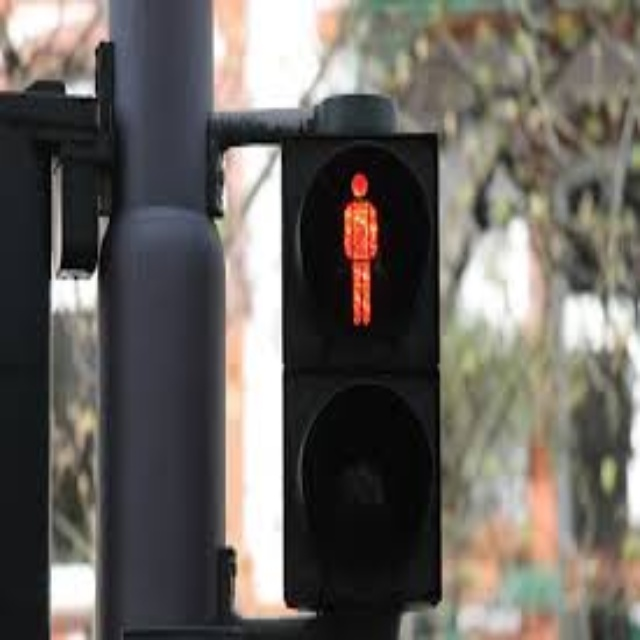red_light: (329, 168, 386, 326)
